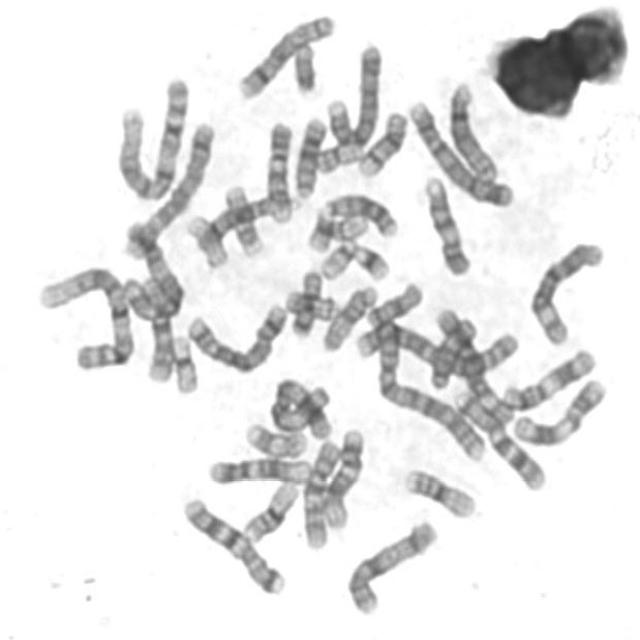A1: (31, 260, 139, 372), (112, 69, 192, 204)
A2: (366, 307, 490, 463), (352, 318, 523, 379)
A3: (118, 216, 187, 323), (264, 371, 335, 441)
B4: (403, 93, 517, 209), (314, 37, 385, 166)
B5: (119, 114, 217, 262), (183, 298, 288, 374)
C10: (125, 271, 177, 385), (297, 433, 344, 553)
C11: (506, 372, 610, 448), (496, 342, 599, 414)
C12: (316, 422, 368, 530), (203, 451, 315, 487)
C6: (432, 301, 524, 425), (524, 235, 608, 348)
C7: (177, 491, 288, 598), (448, 384, 548, 492)
C8: (233, 8, 338, 102), (448, 79, 504, 187)
C9: (418, 169, 474, 279), (260, 115, 296, 226)
D13: (316, 187, 402, 239), (288, 110, 330, 201)
D14: (352, 104, 410, 179), (198, 198, 273, 252)
D15: (318, 278, 380, 354), (428, 313, 483, 394)
E16: (398, 462, 479, 521), (238, 475, 302, 545)
E17: (223, 181, 268, 256), (240, 417, 310, 460)
E18: (362, 276, 425, 328), (284, 264, 324, 339)
F19: (167, 328, 200, 396), (314, 210, 374, 243)
F20: (306, 134, 370, 175), (279, 283, 340, 323)
G21: (348, 238, 392, 283), (307, 197, 336, 255)
G22: (182, 209, 231, 270), (317, 236, 359, 281)
X: (341, 514, 441, 618)
Y: (288, 38, 318, 95)
